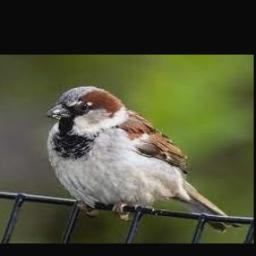Sparrow: (46, 86, 240, 233)
